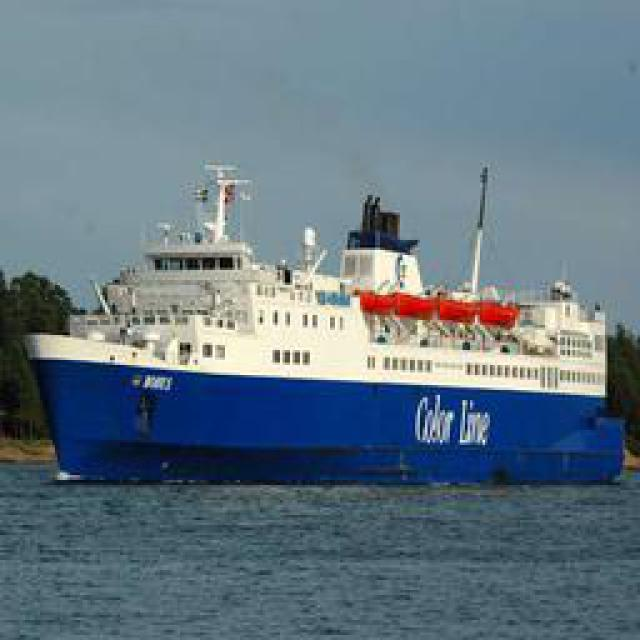Ship: (18, 162, 626, 492)
